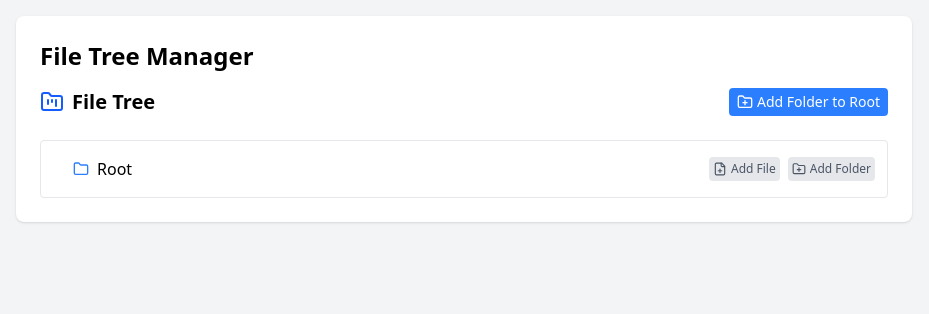
Test: Rename Operations › should rename a file
The image size is (929, 314).
Click the button "Add Folder to Root".
click(808, 102)  # box [729,88,888,116]
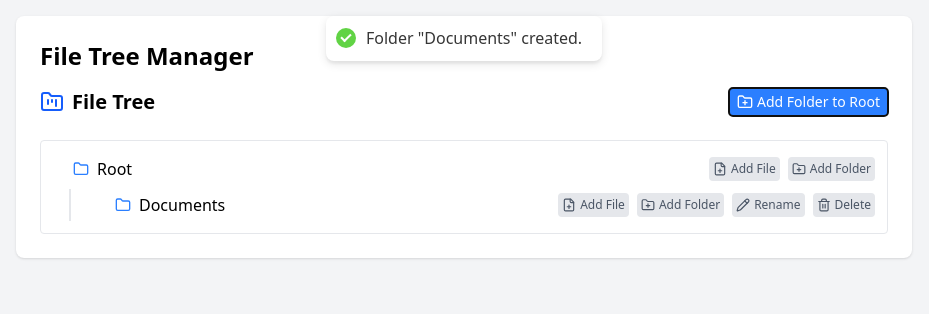
Click the 2nd button "Add File".
click(594, 205)  # box [558,193,629,217]
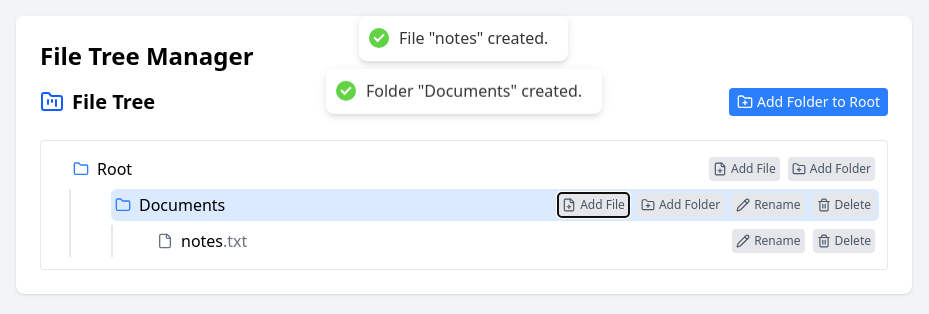
Click the 2nd button "Rename".
click(768, 241)  # box [732,229,804,253]
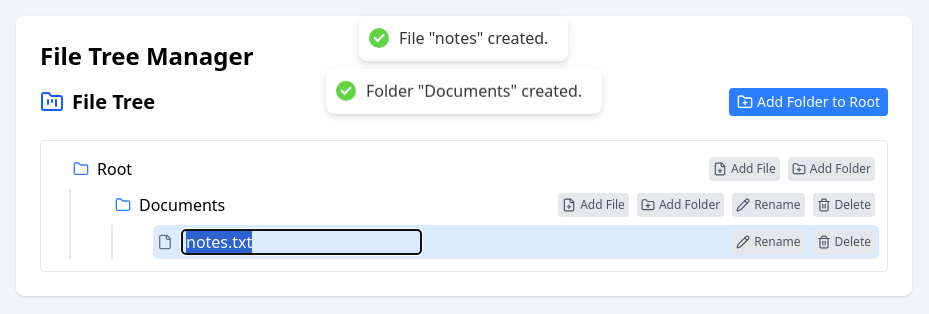
Replace the text in the field showing "notes.txt" with "meeting-notes.txt" at x=302, y=242, box [181,229,422,255]
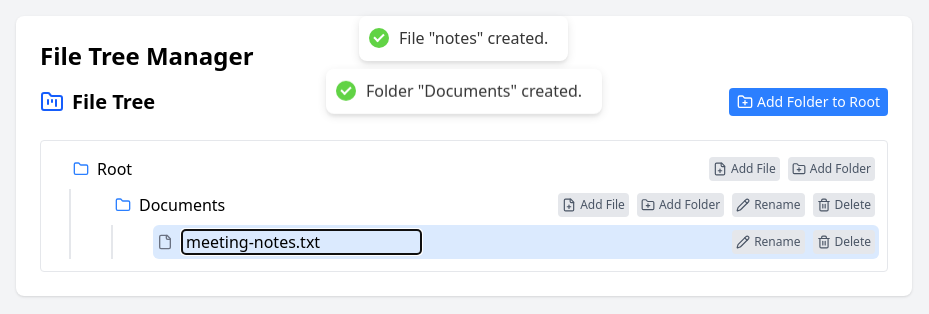
Press Enter
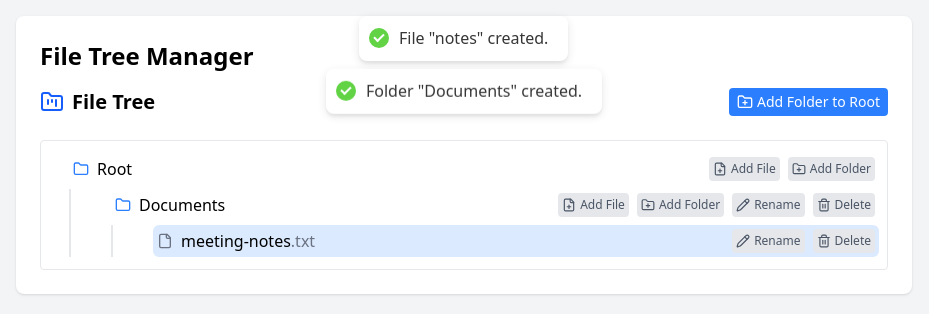
Expected: the text "notes.txt" is not shown
Now the text "meeting-notes" is shown, box [181,230,291,252]
Now the element showing "meeting-notes.txt" is shown, box [157,229,315,253]
